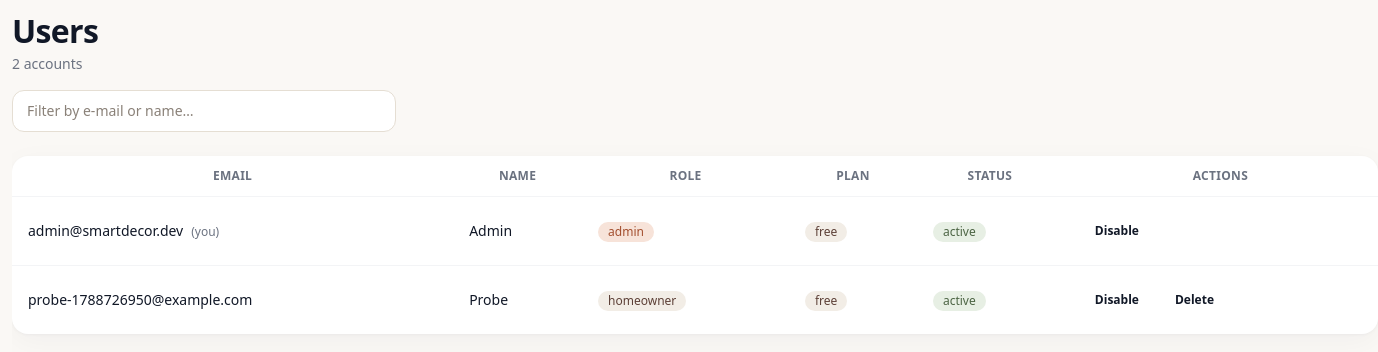
Test: AdminUsersPage — delete › filters the table by e-mail or name
This screenshot has width=1378, height=352.
In the search field labelled "Filter by e-mail or name…": point(204, 111) [12,90,396,132], type "example.com"
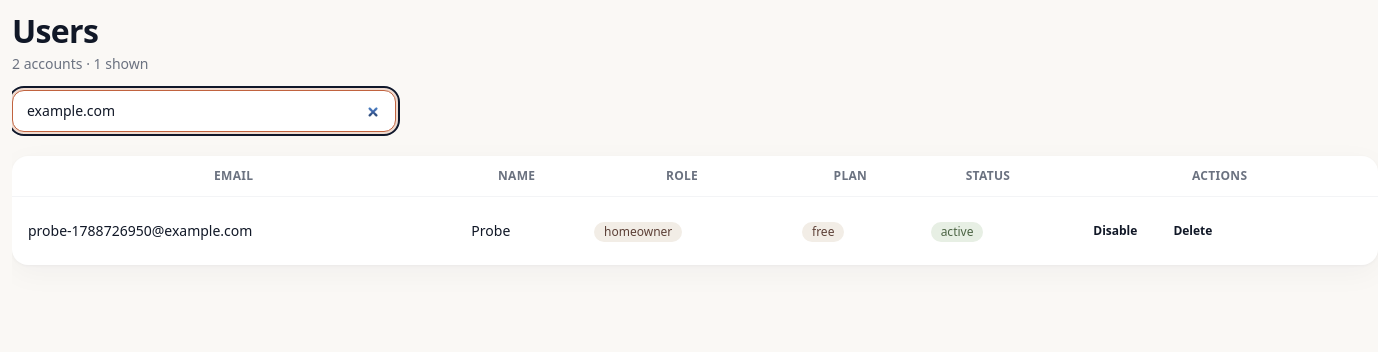
Expected: the text "probe-1788726950@example.com" is shown, [12,197,455,265]
Result: the text "admin@smartdecor.dev" is gone
Result: the text "2 accounts · 1 shown" is shown at [12,54,148,73]
